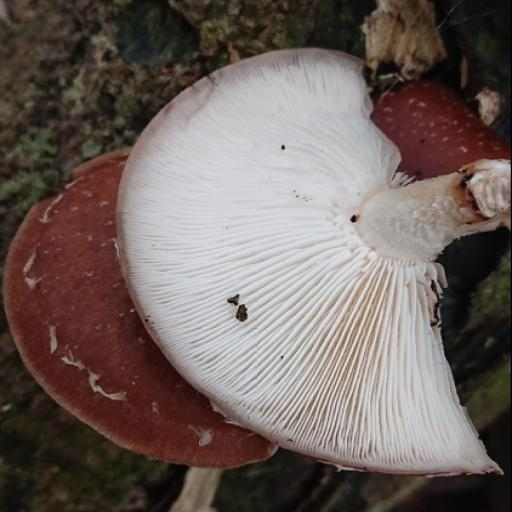Shiitake Mushroom: (0, 24, 512, 489)
